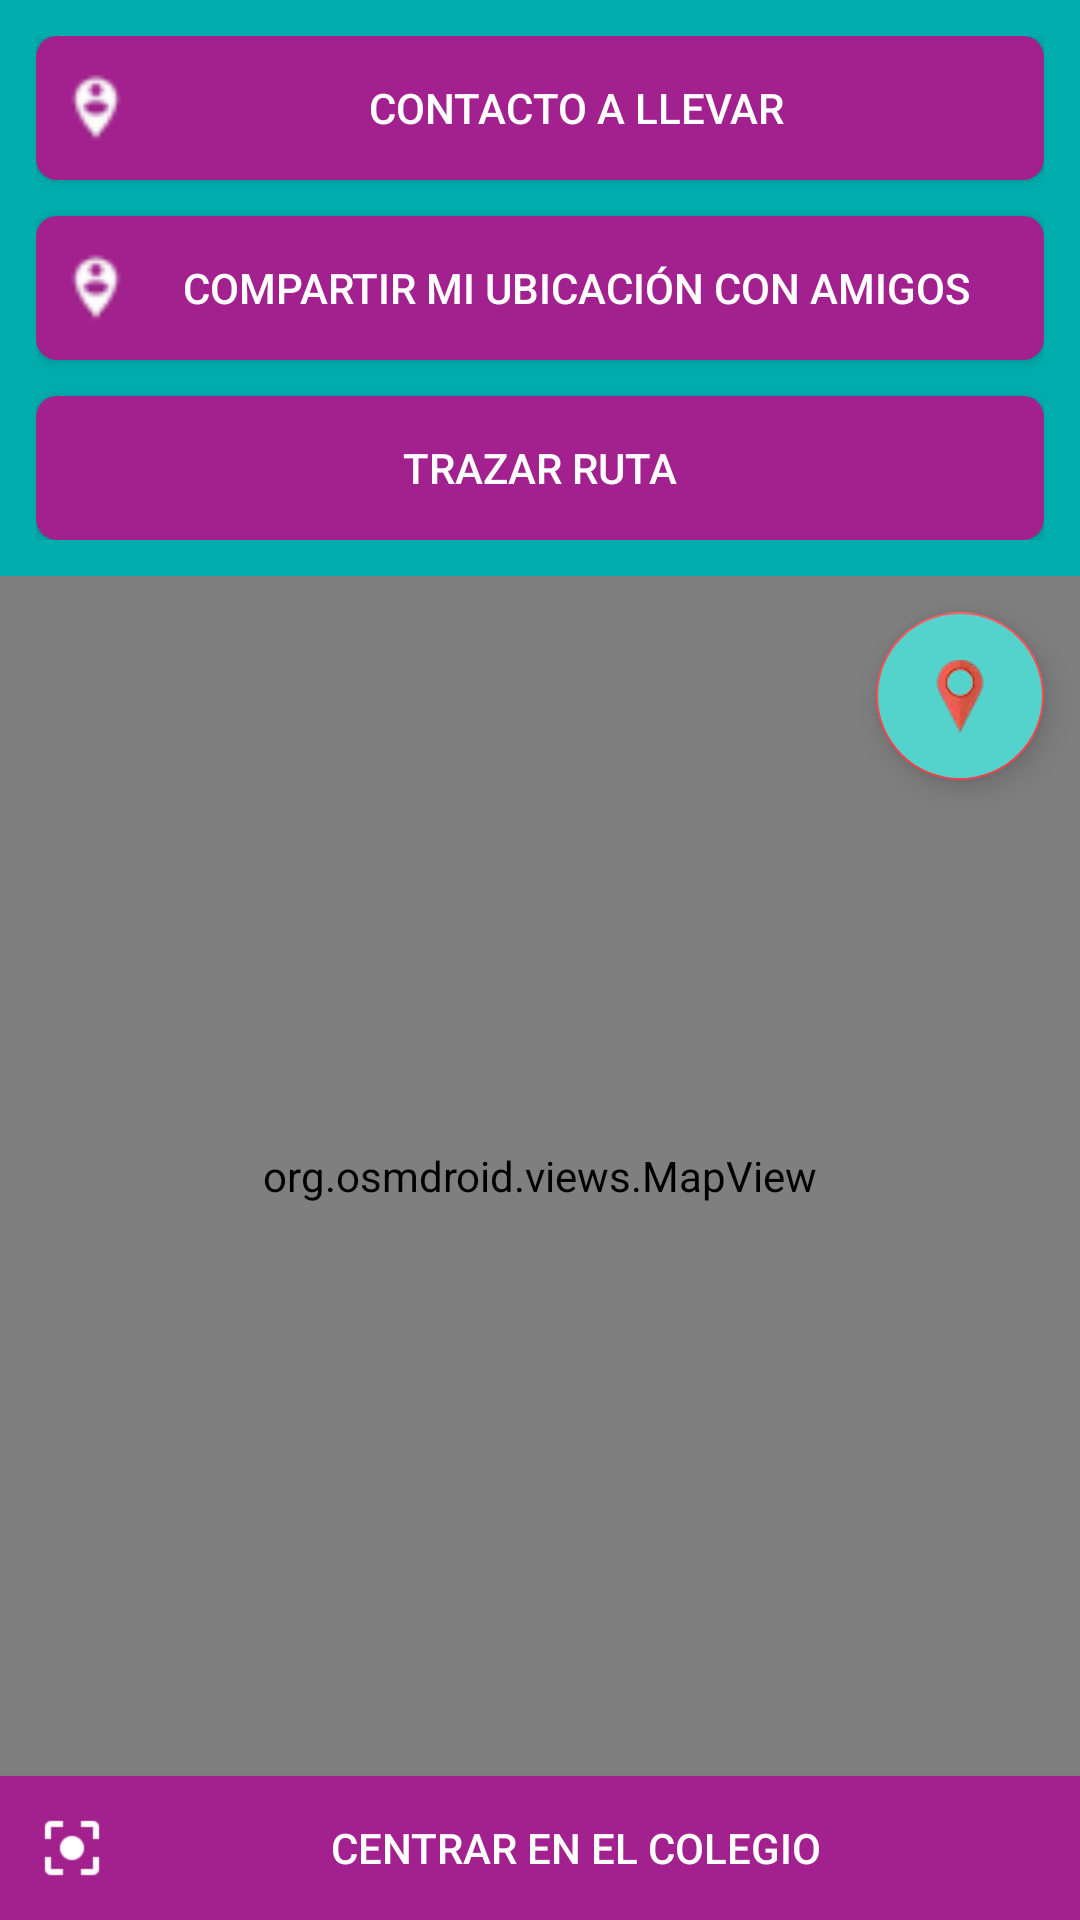

Where icons sit on this 1080×1920 app screen, as bbox=[x1, y1, x2, y2]:
marker: bbox=[876, 612, 1044, 780]
